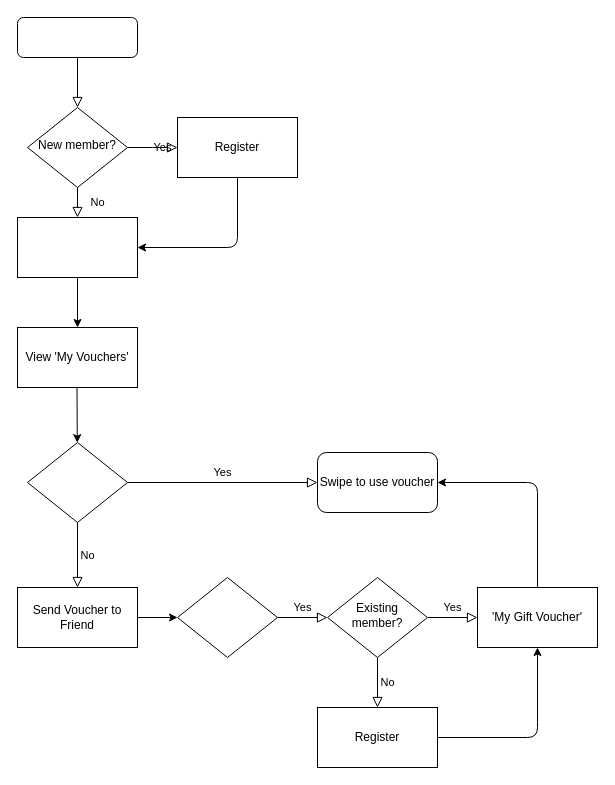
Some shapes in this 615 by 785 pixel diagram are drawn without their labels. The shapes that lost their labels are listed below. From the top down, each one's centre as x and y in pixels, then its label:
At (x=77, y=37): "Start".
At (x=77, y=247): "Buy Voucher".
At (x=77, y=482): "Voucher for self".
At (x=227, y=617): "Claim?".
